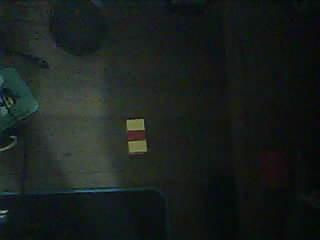lego: (125, 119, 147, 155)
